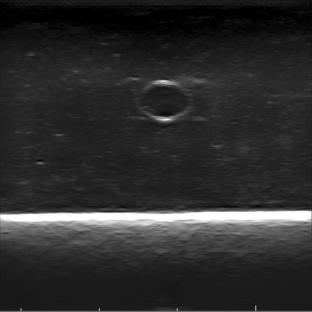vessel: (137, 79, 191, 122)
